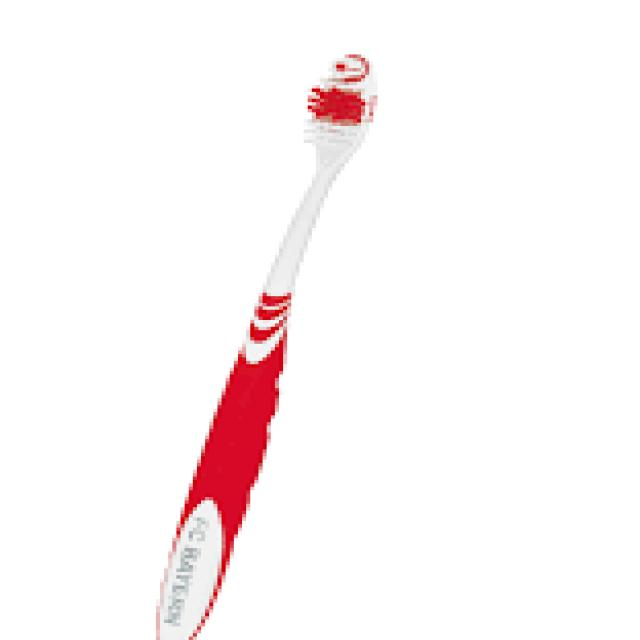organic: (132, 38, 403, 632)
